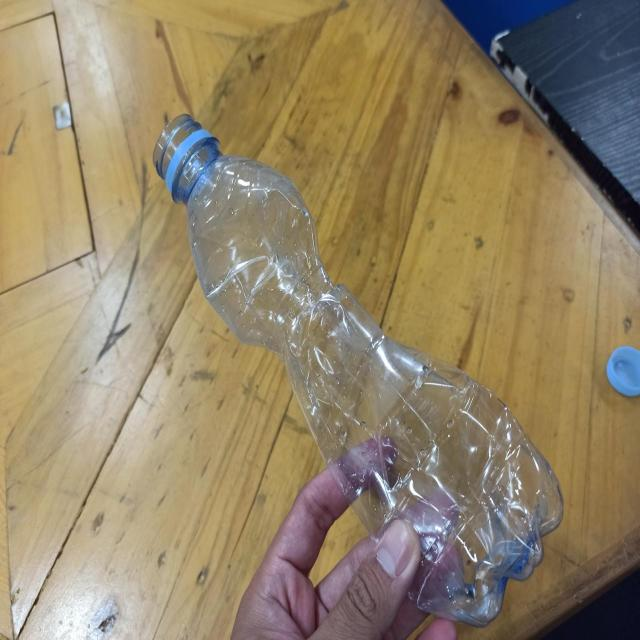BotolPlastik: (152, 111, 564, 628)
